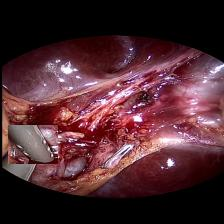Irrigator: (7, 125, 57, 164)
